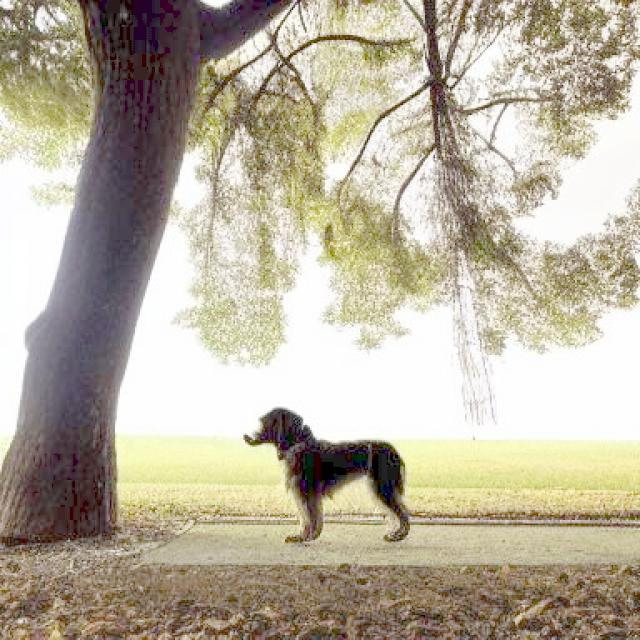Dog: (241, 405, 411, 544)
